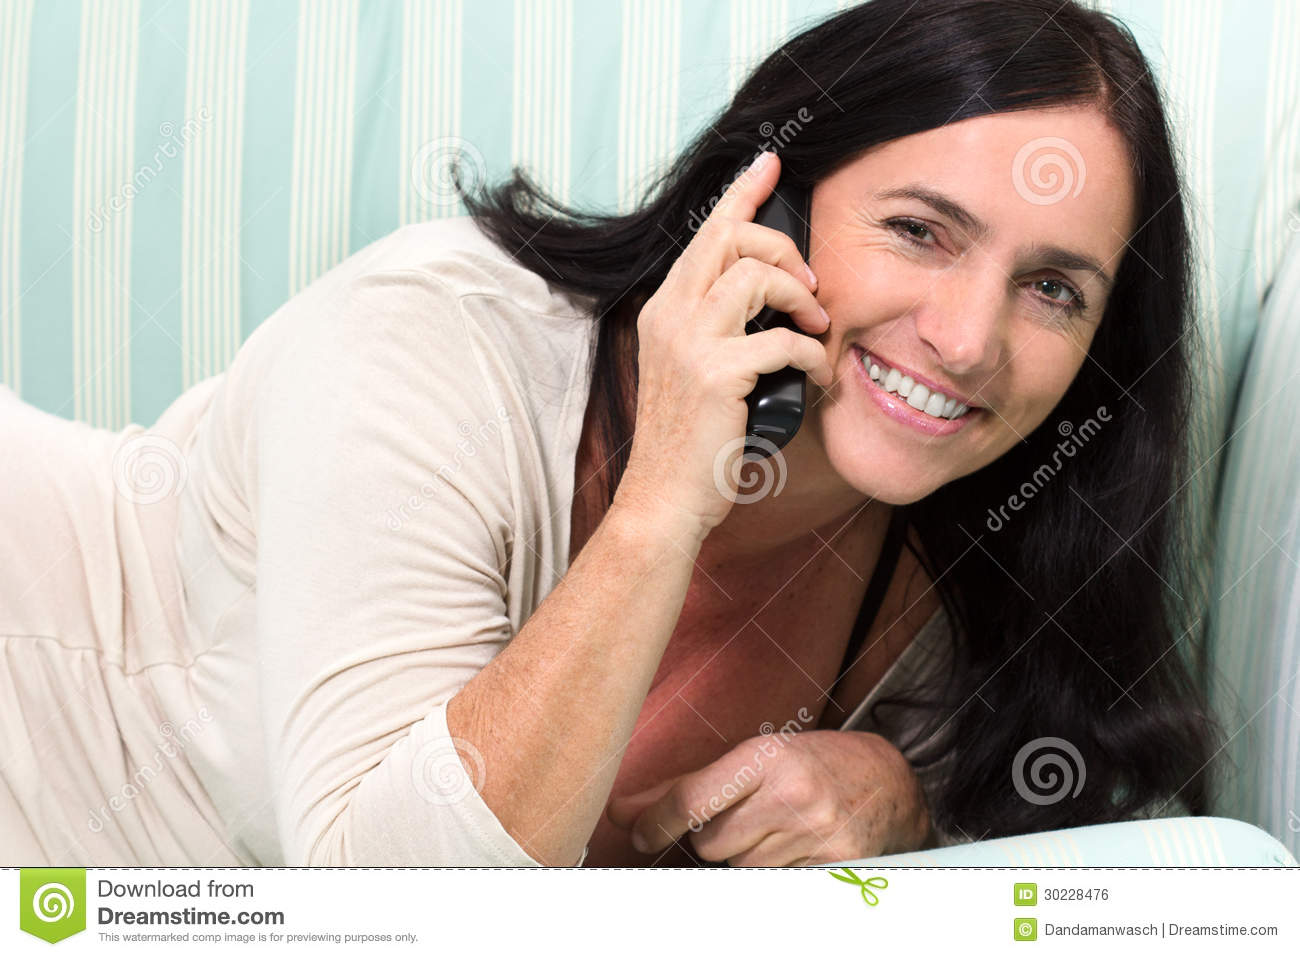phone: (703, 140, 810, 478)
talk: (620, 130, 1115, 560)
